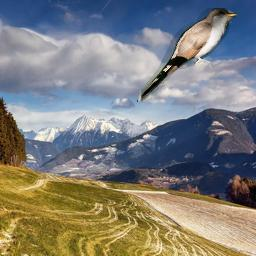Cuckoo: (137, 8, 239, 102)
